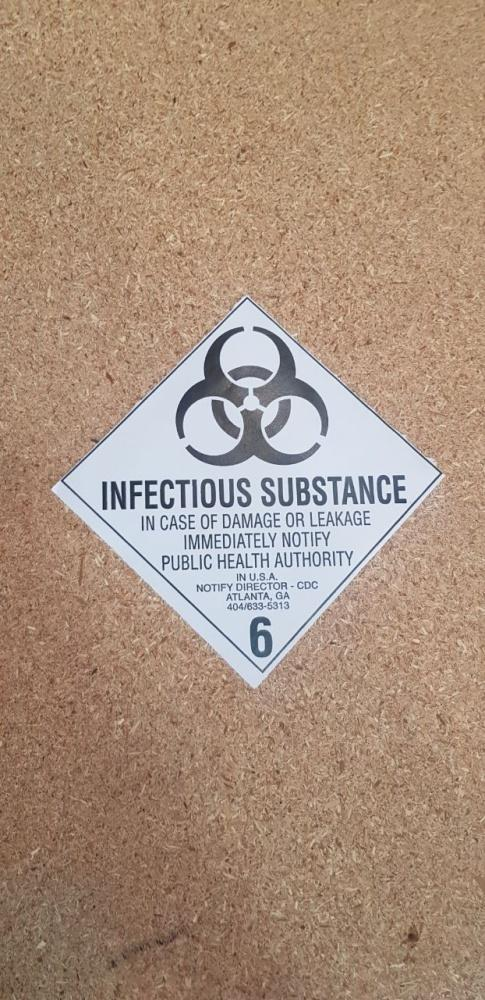infectious-substance: (51, 294, 445, 692)
